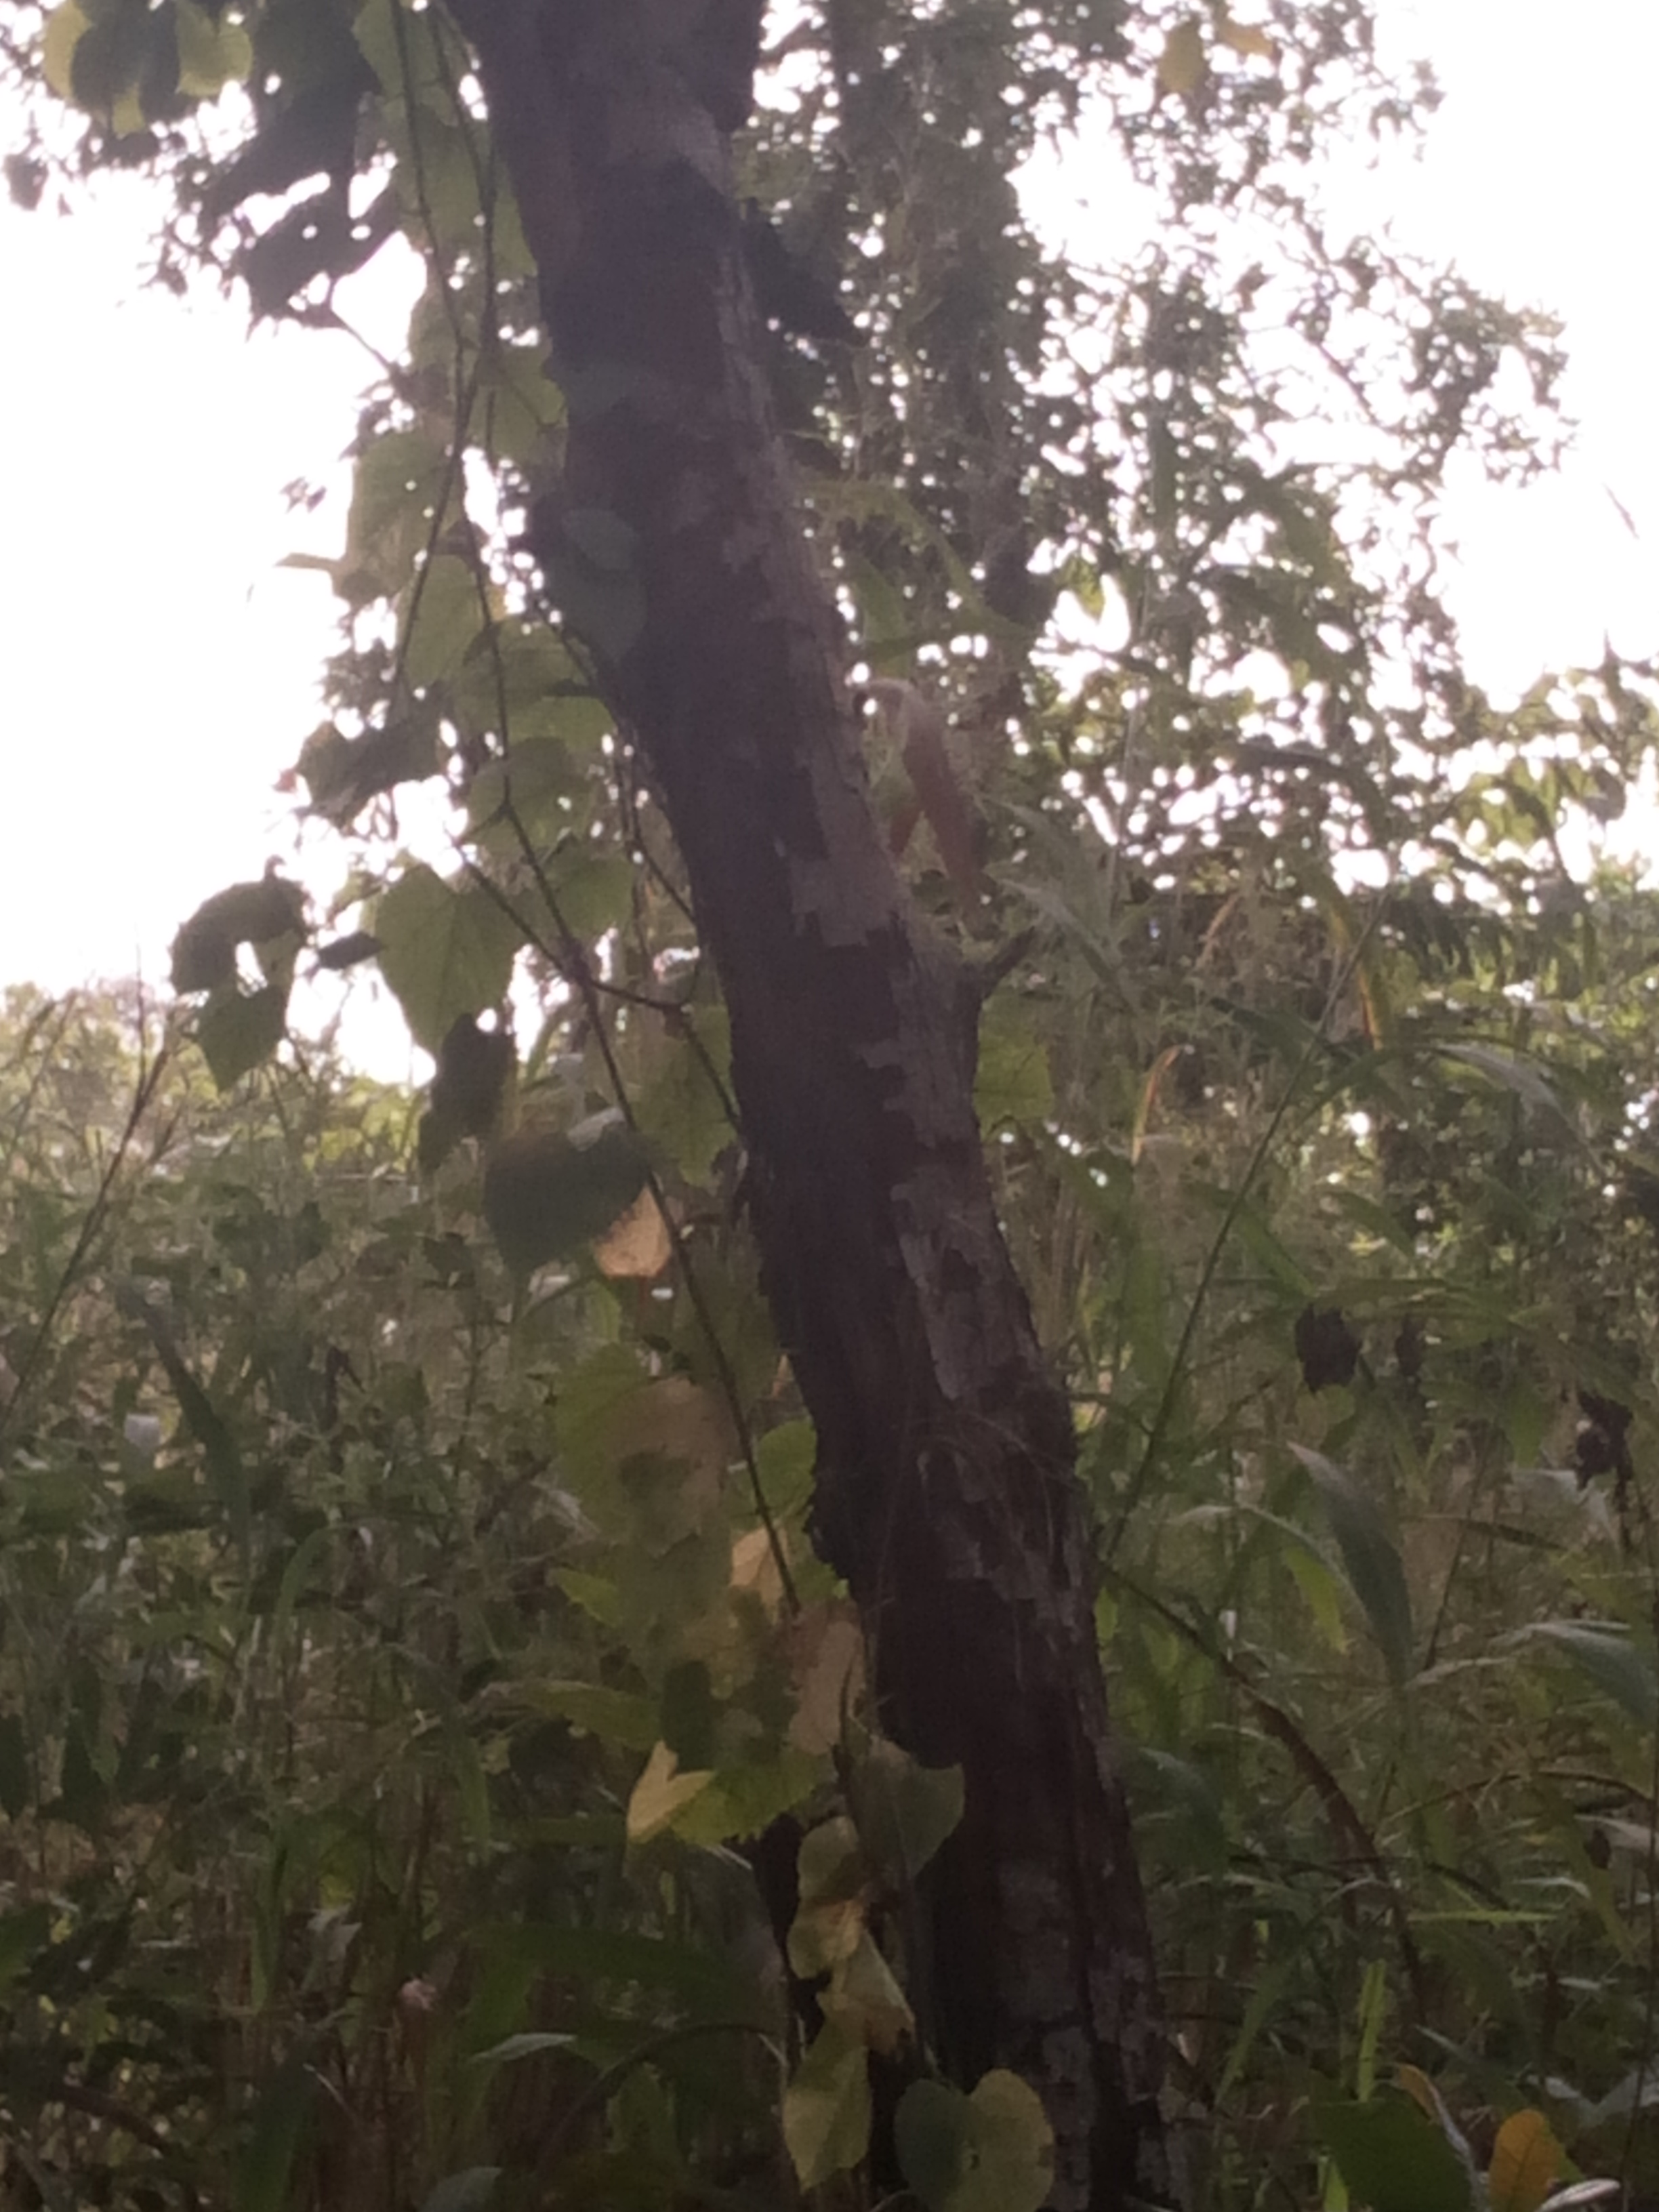Termites: (697, 590, 962, 1217), (847, 1261, 1066, 1831)
